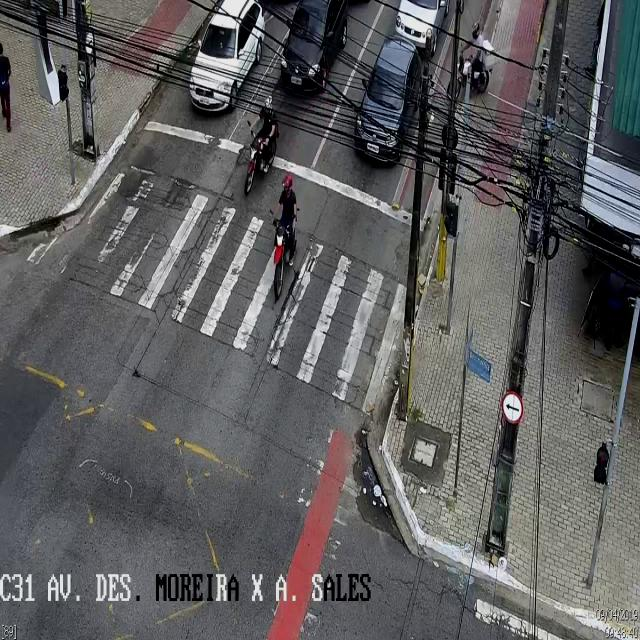Car: (357, 41, 425, 172), (190, 1, 266, 109), (282, 0, 350, 92), (387, 0, 463, 48)
Motorcycle: (270, 176, 304, 300), (446, 22, 498, 102), (246, 109, 276, 198)
